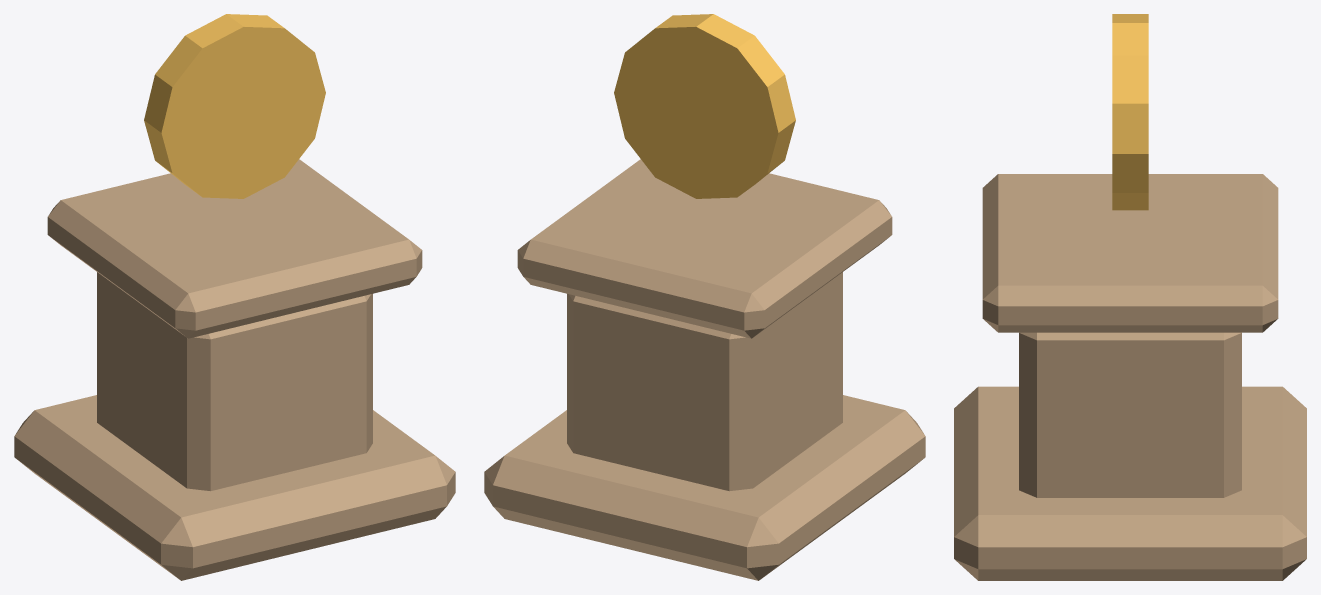
The model's file is pilar_galeao.glb.
3 renders of one model, left to right at view 1: azimuth 30°, elevation 25°; view 2: azimuth 150°, elevation 25°; view 3: azimuth 270°, elevation 25°, orthographic. The views are drawn at different scales.
Visible parts, largest first — view 1: deserto_pilar_galeao; view 2: deserto_pilar_galeao; view 3: deserto_pilar_galeao.
Part boxes in pixels (x1,y1,x2,y2): deserto_pilar_galeao: (14,14,455,580); deserto_pilar_galeao: (484,14,925,580); deserto_pilar_galeao: (954,14,1306,580).
Size of the model in its own units: 0.68 by 1.05 by 0.68.
